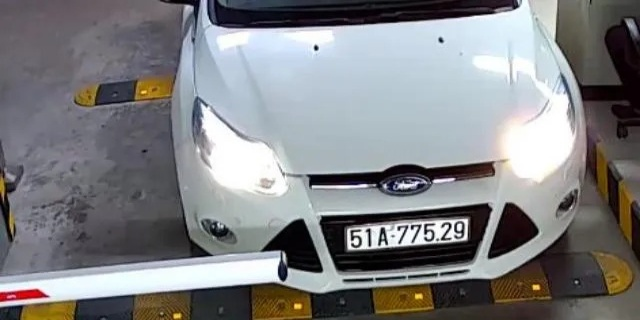bien_so: (346, 219, 468, 249)
